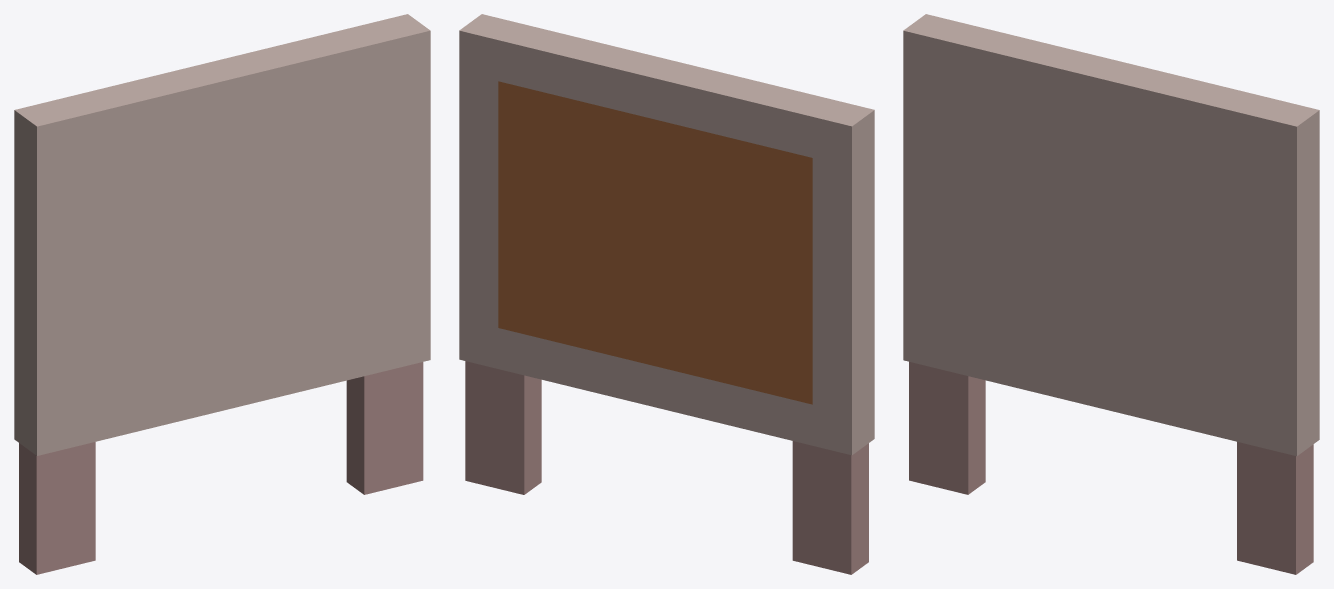
The model's file is sign_brown.fbx.
3 renders of one model, left to right at view 1: azimuth 30°, elevation 25°; view 2: azimuth 150°, elevation 25°; view 3: azimuth 330°, elevation 25°, orthographic.
Parts seen in each view (by area): view 1: sign_brown; view 2: sign_brown; view 3: sign_brown.
Boxes of the visible parts, box(x1,y1,x2,y2) form: sign_brown: box(14, 14, 430, 574); sign_brown: box(459, 14, 874, 574); sign_brown: box(903, 14, 1319, 574).
Size of the model in its own units: 100 by 10 by 110.
